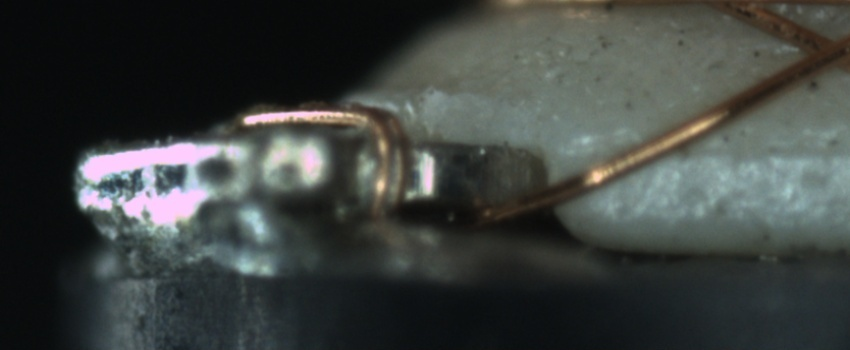CL: (778, 17, 848, 78)
DL: (613, 122, 849, 183)
TE: (228, 98, 415, 214)
